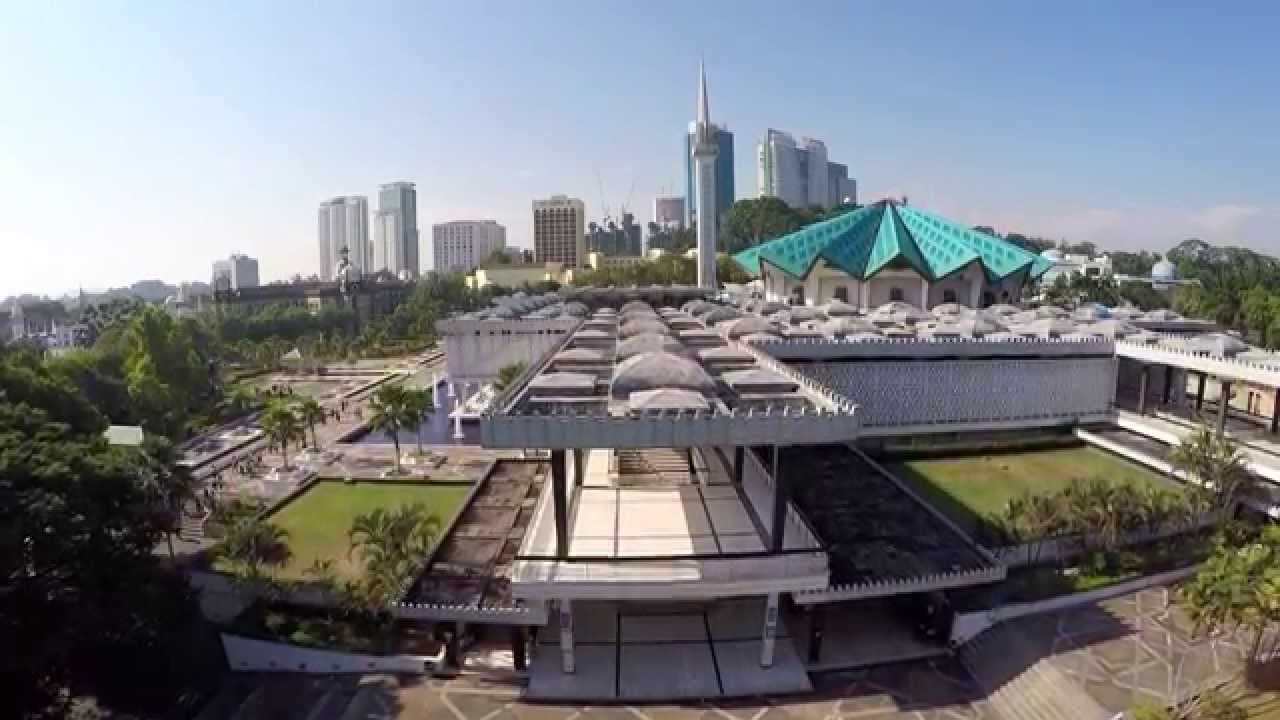Mosque: (731, 178, 1040, 304)
